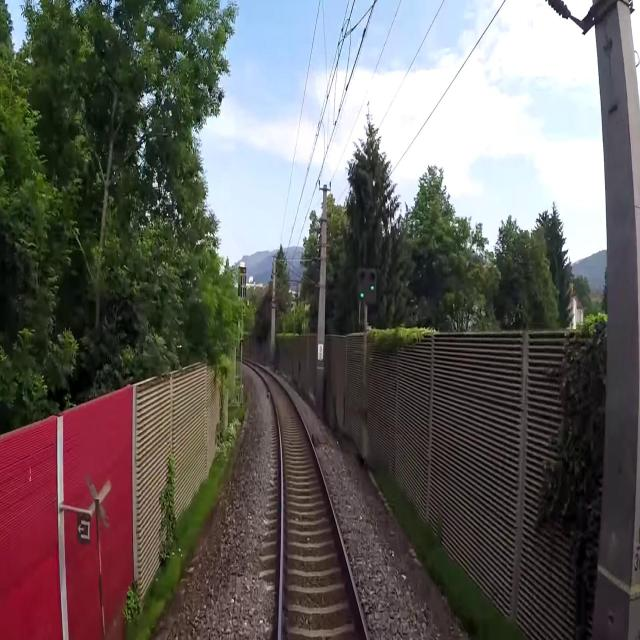rail-track: (260, 370, 364, 639)
